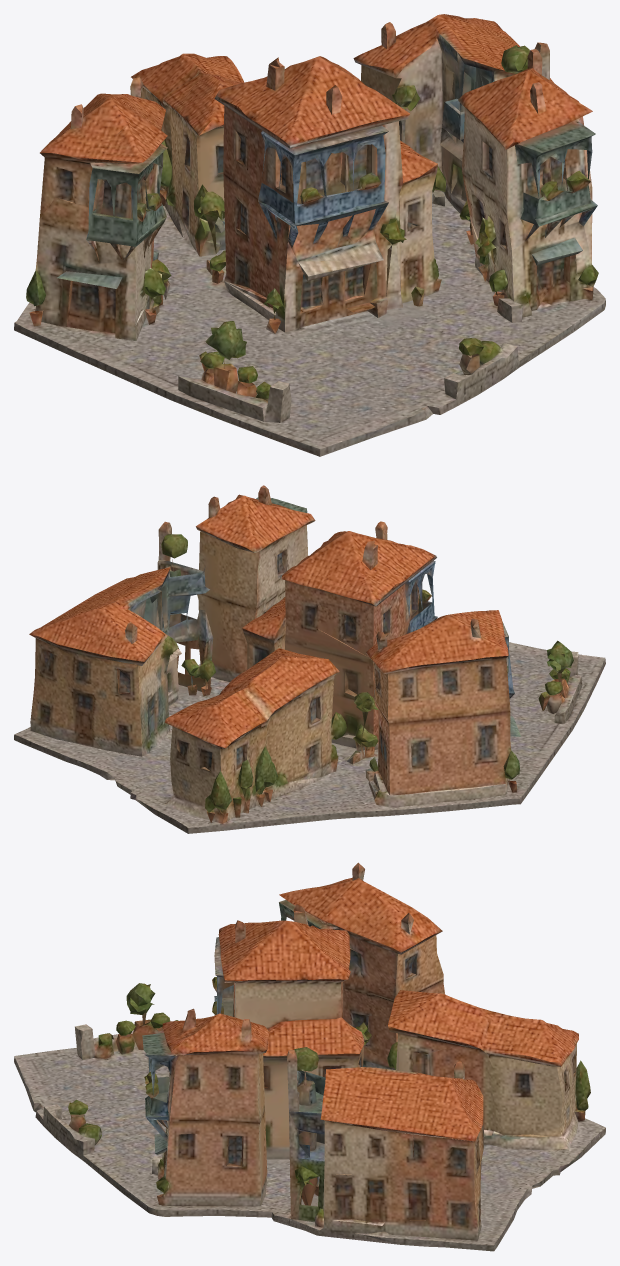
File: m_tb_courtyard.glb
The picture shows the model from 3 angles, top to bottom: view 1: azimuth 30°, elevation 25°; view 2: azimuth 150°, elevation 25°; view 3: azimuth 270°, elevation 25°; orthographic projection. The views are drawn at different scales.
Bounding box in the file's own units: 0.9229 × 0.3889 × 0.9993.
1 material, 1 textured.
